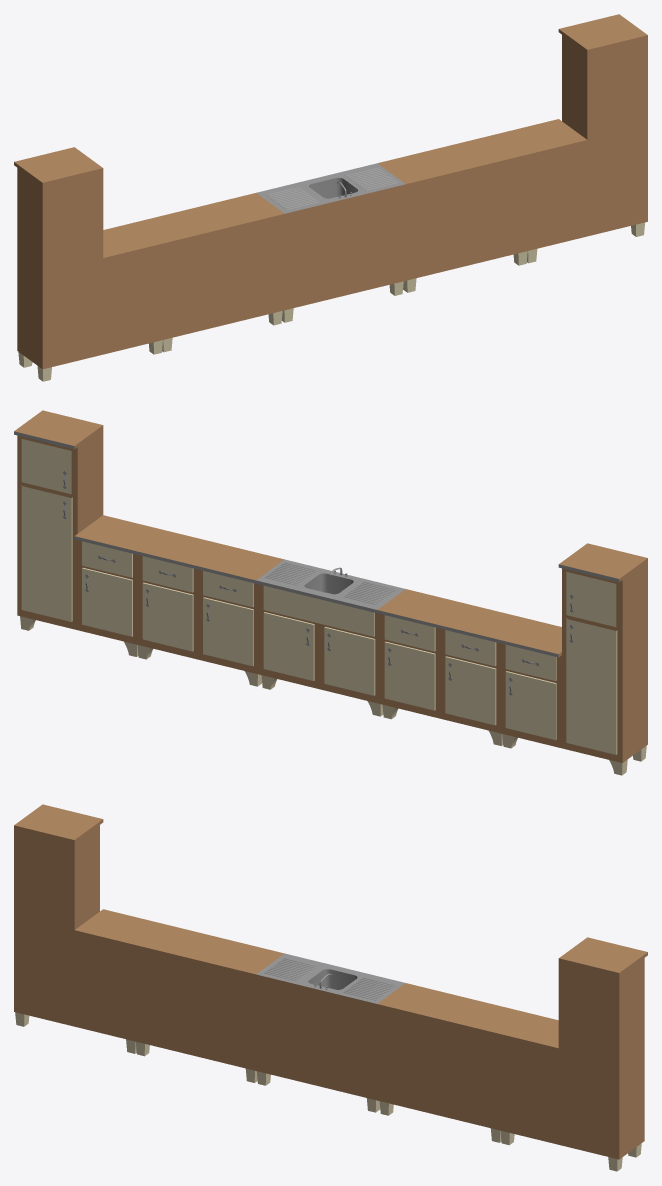
File: sink.fbx
The picture shows the model from 3 angles, top to bottom: view 1: azimuth 30°, elevation 25°; view 2: azimuth 150°, elevation 25°; view 3: azimuth 330°, elevation 25°; orthographic projection.
Visible parts, largest first — view 1: Cylinder.002; view 2: Cylinder.002; view 3: Cylinder.002.
Part boxes in pixels (box(x1,y1,x2,y2)): Cylinder.002: box(14, 14, 647, 381); Cylinder.002: box(14, 410, 647, 775); Cylinder.002: box(14, 804, 647, 1171).
Bounding box in the file's own units: 1486 × 469 × 122.
